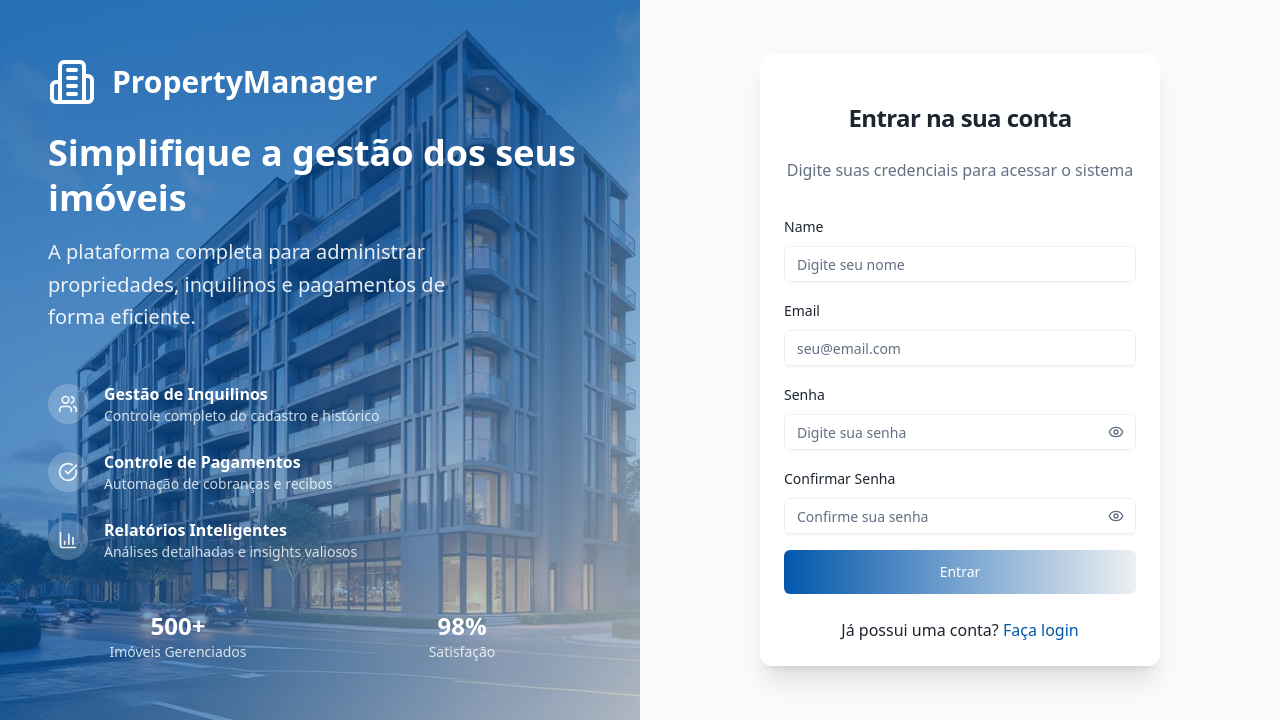
Test: Formulário de Registro › Validações de Campo › deve exibir erro quando o nome é muito curto
The width and height of the screenshot is (1280, 720).
Step 1. Type "A" into the field with id "name" → (960, 264), box [784,246,1136,282]
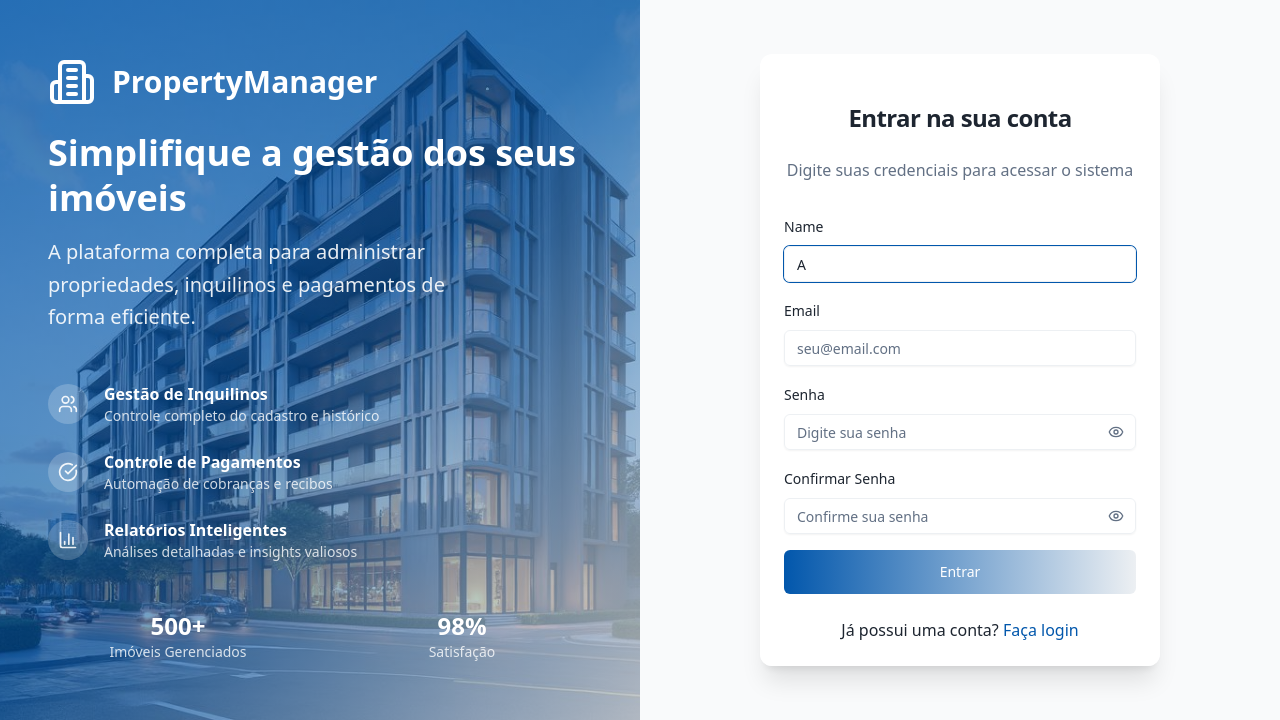
Step 2. Leave the field with id "name", box [784,246,1136,282]
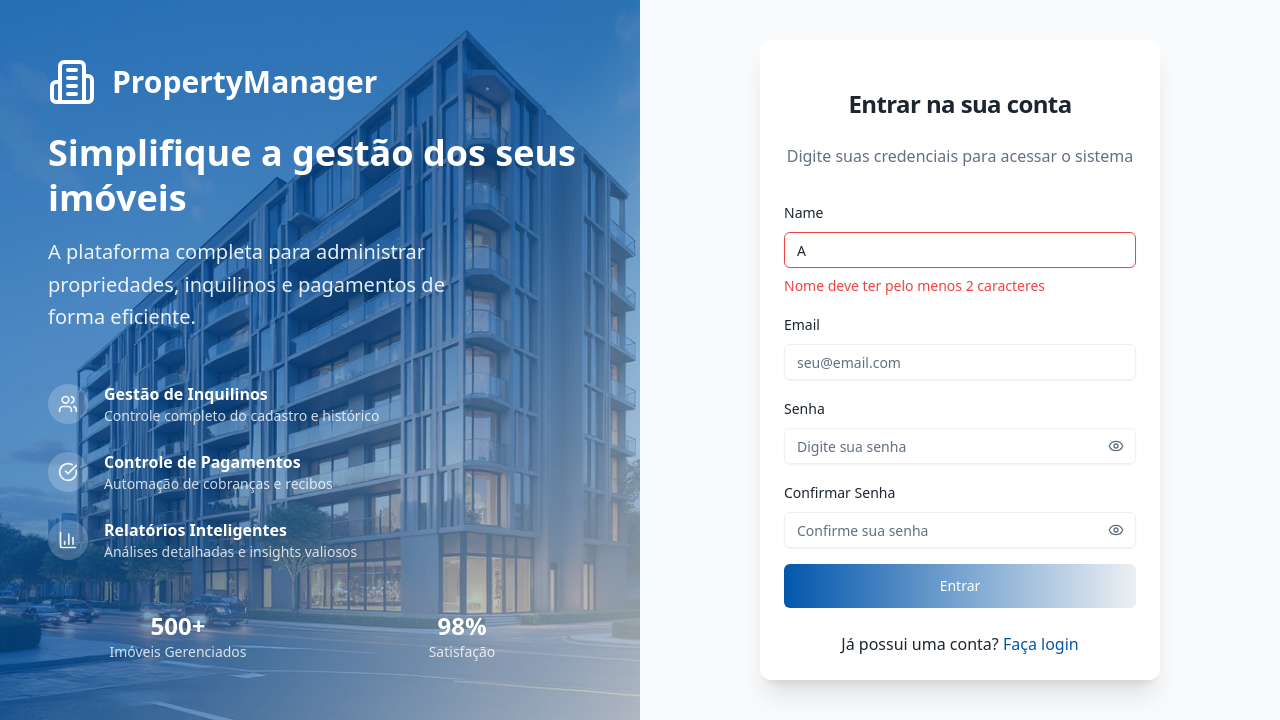
Result: the text "Nome deve ter pelo menos 2 caracteres" is shown at [784,276,1045,295]
